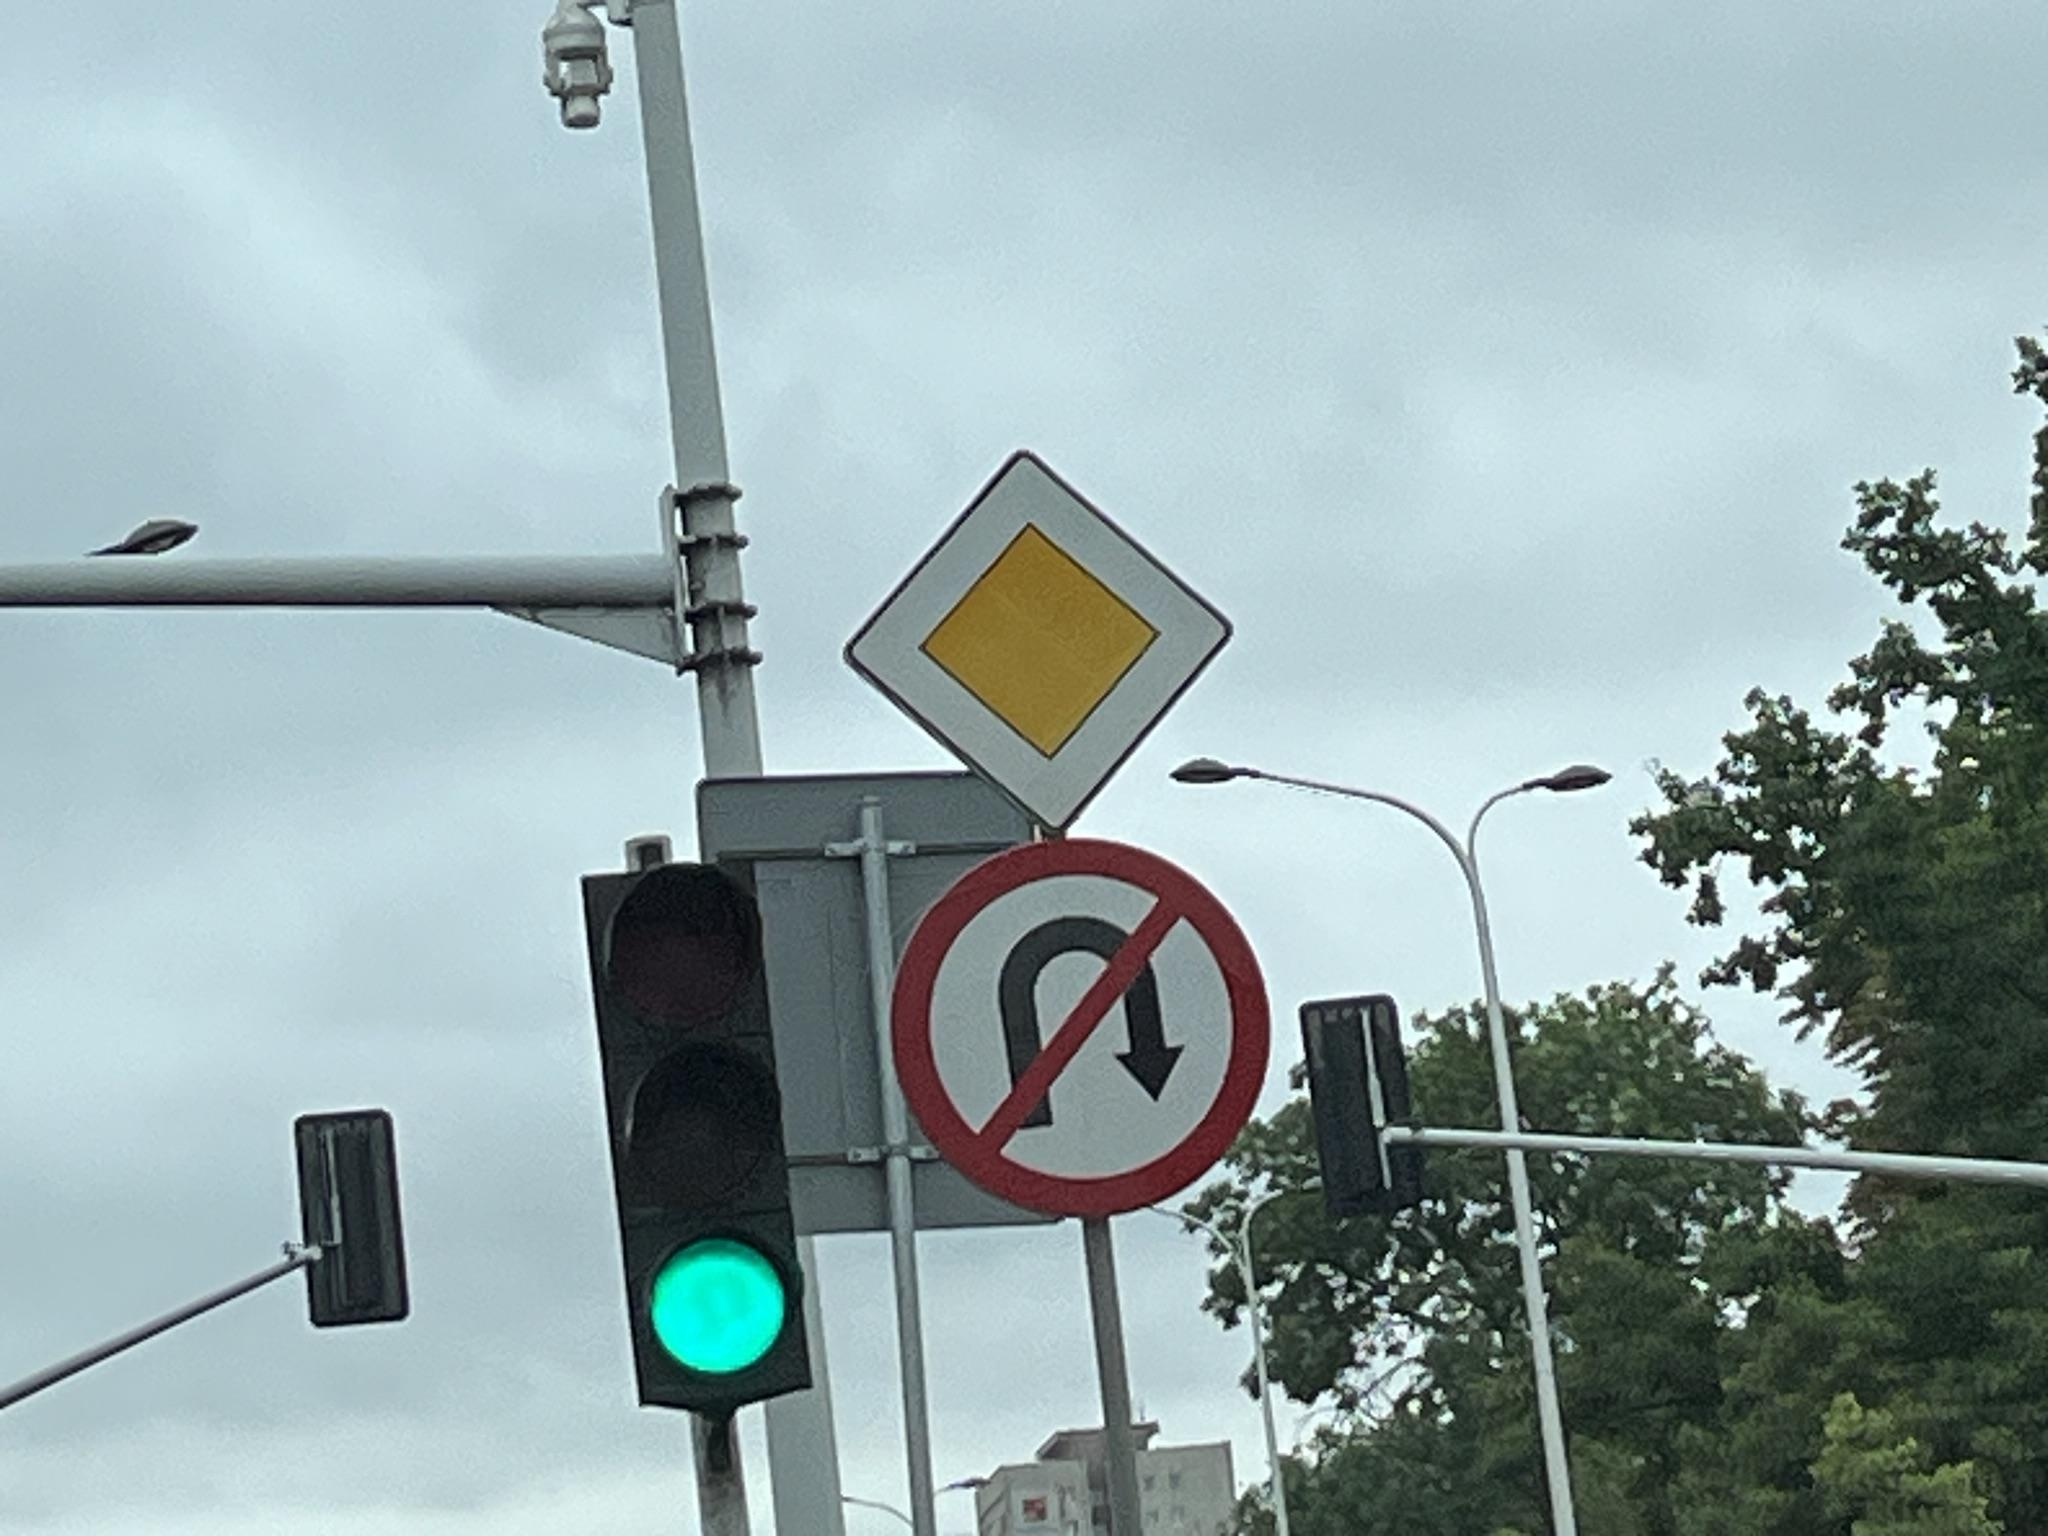information: (840, 444, 1235, 841)
prohibitory: (885, 836, 1274, 1221)
